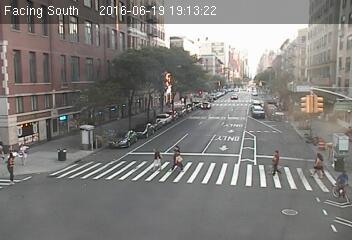neg: (80, 184, 109, 222), (21, 115, 49, 153), (52, 32, 75, 63), (143, 41, 165, 70), (327, 166, 349, 195), (285, 50, 306, 77), (99, 142, 120, 169), (266, 98, 286, 124), (306, 88, 326, 114), (58, 138, 77, 164), (218, 184, 237, 210), (249, 43, 268, 68), (209, 41, 228, 66), (34, 186, 52, 210), (215, 143, 233, 167), (114, 44, 132, 66), (275, 190, 292, 212), (132, 88, 148, 110), (214, 93, 230, 115), (240, 90, 256, 112), (177, 97, 193, 118), (186, 195, 201, 216), (286, 126, 301, 146), (75, 73, 90, 93), (150, 205, 165, 225), (314, 198, 329, 218), (93, 114, 107, 133), (180, 39, 194, 58), (50, 89, 64, 107)
pos: (265, 146, 289, 178), (4, 150, 28, 181), (168, 144, 190, 173), (311, 151, 332, 180), (146, 147, 165, 173)
